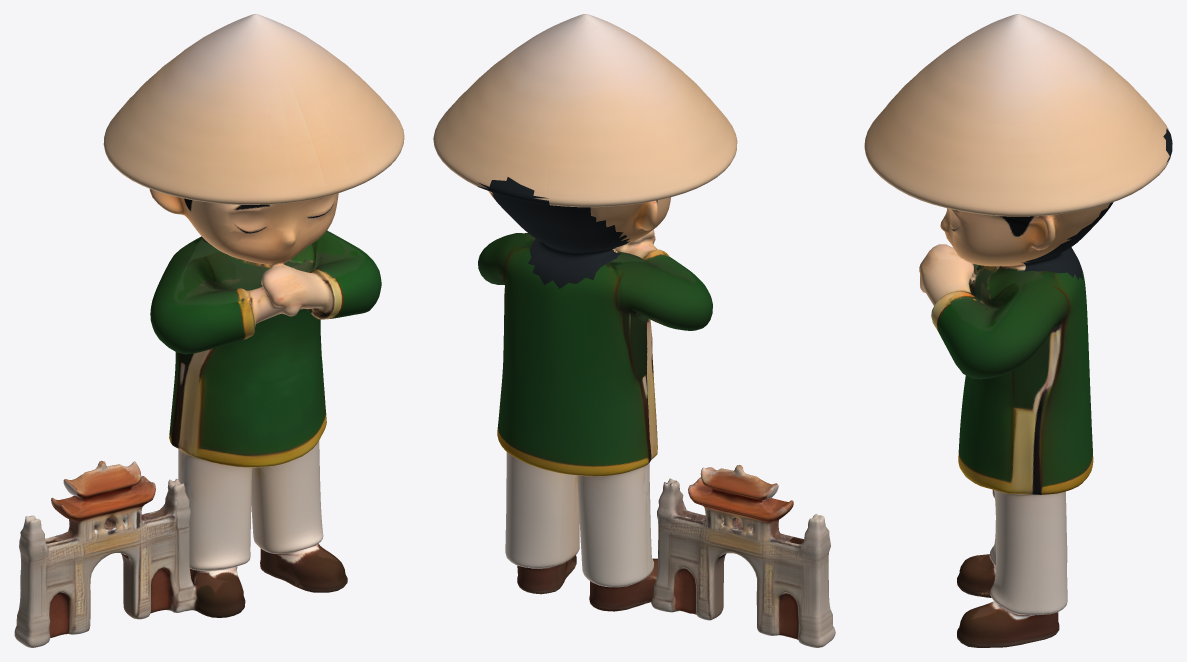
Rendered from nibi-co-do-hoa-lu-v11.glb.
The picture shows the model from 3 angles, left to right: view 1: azimuth 30°, elevation 25°; view 2: azimuth 150°, elevation 25°; view 3: azimuth 270°, elevation 25°; orthographic projection. The views are drawn at different scales.
Parts seen in each view (by area): view 1: Nibi_CoDoHoaLu_v11; view 2: Nibi_CoDoHoaLu_v11; view 3: Nibi_CoDoHoaLu_v11.
Boxes of the visible parts, x1=… form: Nibi_CoDoHoaLu_v11: x1=14, y1=14, x2=404, y2=647; Nibi_CoDoHoaLu_v11: x1=433, y1=14, x2=835, y2=647; Nibi_CoDoHoaLu_v11: x1=864, y1=14, x2=1172, y2=647.
Size of the model in its own units: 1.29 by 1.91 by 0.8899.
Materials: 2 (1 with a texture image).
